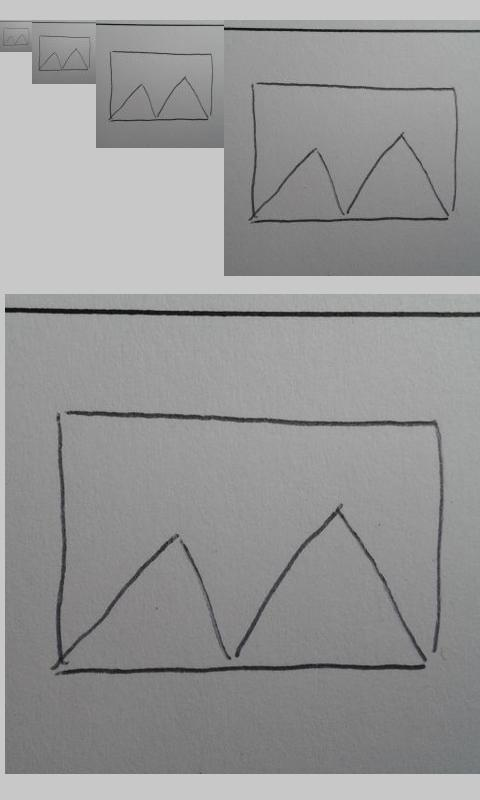image_view: (51, 406, 445, 679), (250, 82, 459, 226), (108, 50, 215, 123), (38, 35, 91, 71), (2, 27, 30, 46)
